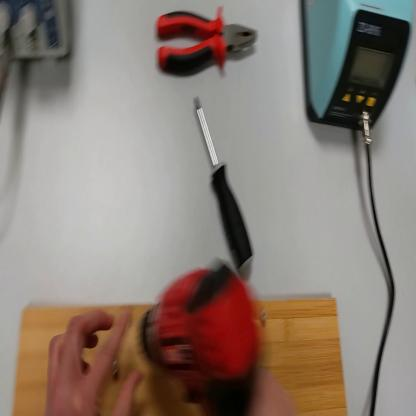electric screwdriver: (140, 256, 267, 416)
hand: (46, 302, 143, 414), (250, 366, 296, 412)
oscilloscope: (2, 2, 75, 74)
pliers: (155, 7, 258, 80)
screwdriver-: (194, 95, 254, 281)
welder station: (301, 1, 415, 128)
working area: (20, 295, 351, 416)
